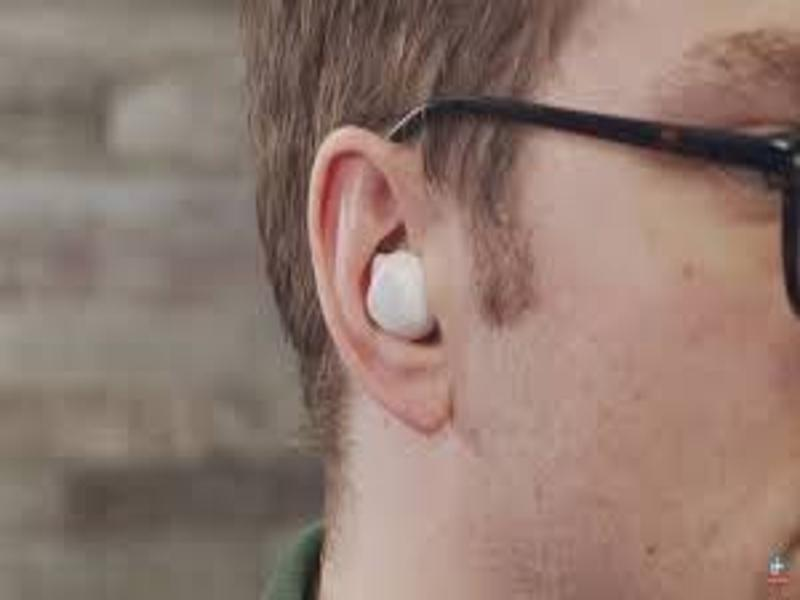headphone: (361, 249, 441, 344)
